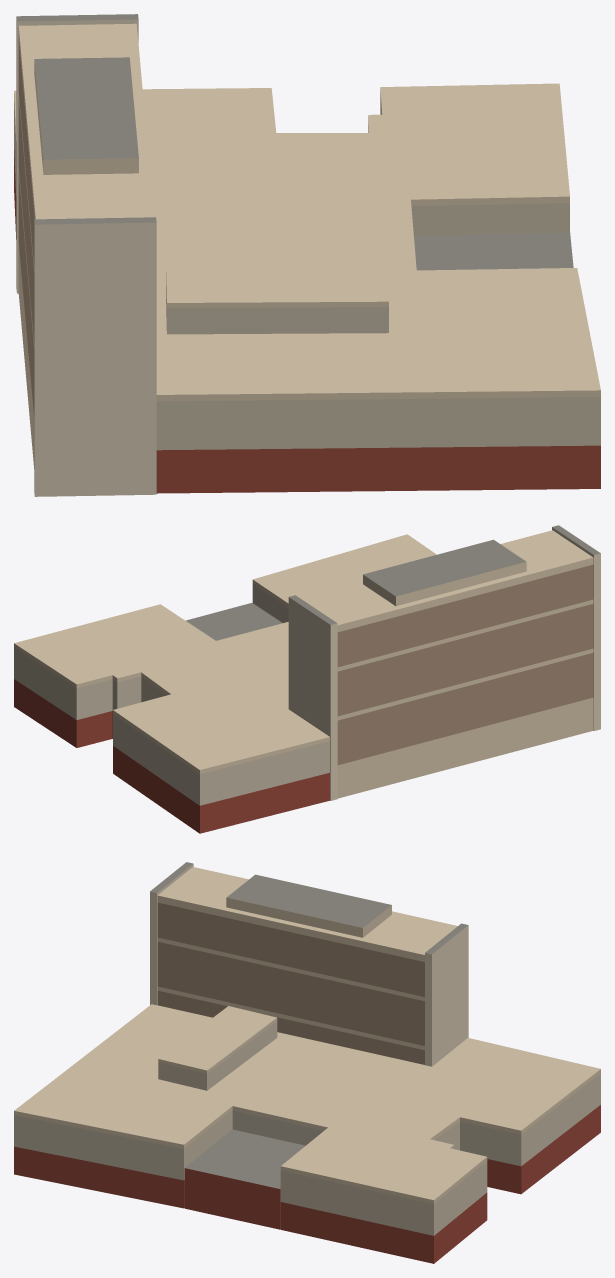
File: fremont_hotel_casino_l_w699874292.glb
3 views of the same model, one above another, from view 1: azimuth 30°, elevation 25°; view 2: azimuth 150°, elevation 25°; view 3: azimuth 270°, elevation 25° (orthographic). The views are drawn at different scales.
Visible parts, largest first — view 1: Tower_w699874292; view 2: Tower_w699874292; view 3: Tower_w699874292.
Boxes of the visible parts, x1,y1,x2,y2 form: Tower_w699874292: [14, 14, 600, 496]; Tower_w699874292: [14, 525, 600, 833]; Tower_w699874292: [14, 862, 600, 1263].
Size of the model in its own units: 139 by 52.3 by 152.
